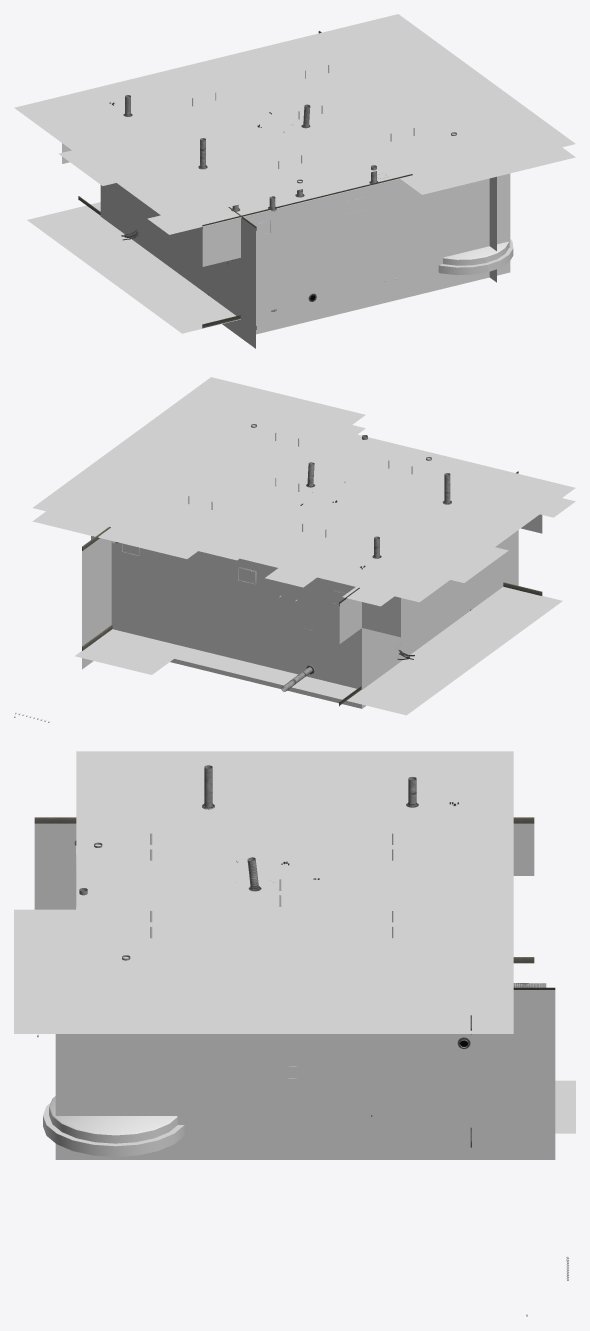
Rendered from BreakerRoom.fbx.
3 renders of one model, top to bottom at view 1: azimuth 30°, elevation 25°; view 2: azimuth 150°, elevation 25°; view 3: azimuth 270°, elevation 25°, orthographic. The views are drawn at different scales.
Parts seen in each view (by area): view 1: SM_MERGED_SM_WallB_3M52.001, SM_MERGED_SM_Wall_3m23.001, SM_MERGED_SM_WallB_3M10.001, SM_MERGED_SM_Wall_3m27.001, SM_MERGED_SM_WallB_3M32.001, SM_BreakerRoomStage_34.001, SM_MERGED_SM_Wall_3m21.001, SM_MERGED_SM_Pipes_Puzzle_V2_Double170_14.001; view 2: SM_MERGED_SM_WallB_3M52.001, SM_MERGED_SM_MERGED_SM_Wall_3m33.001, SM_MERGED_SM_WallB_3M10.001, SM_MERGED_SM_Wall_3m27.001, SM_MERGED_SM_WallB_3M32.001, SM_MERGED_SM_Wall_3m21.001; view 3: SM_MERGED_SM_WallB_3M52.001, SM_MERGED_SM_Wall_3m21.001, SM_MERGED_SM_WallB_3M32.001, SM_BreakerRoomStage_34.001, SM_MERGED_SM_Wall_3m27.001, SM_MERGED_ServerRoomSet_A_LOD0_23.001, SM_MERGED_SM_WallB_3M10.001.
Boxes of the visible parts, x1,y1,x2,y2 form: SM_MERGED_SM_WallB_3M52.001: (14,14,575,221); SM_MERGED_SM_Wall_3m23.001: (202,173,510,334); SM_MERGED_SM_WallB_3M10.001: (27,202,240,333); SM_MERGED_SM_Wall_3m27.001: (100,183,255,348); SM_MERGED_SM_WallB_3M32.001: (59,147,575,234); SM_BreakerRoomStage_34.001: (438,239,513,275); SM_MERGED_SM_Wall_3m21.001: (489,176,496,282); SM_MERGED_SM_Pipes_Puzzle_V2_Double170_14.001: (198,138,304,311); SM_MERGED_SM_WallB_3M52.001: (33,377,575,602); SM_MERGED_SM_MERGED_SM_Wall_3m33.001: (91,536,400,708); SM_MERGED_SM_WallB_3M10.001: (75,587,562,715); SM_MERGED_SM_Wall_3m27.001: (339,473,518,708); SM_MERGED_SM_WallB_3M32.001: (32,425,575,606); SM_MERGED_SM_Wall_3m21.001: (82,538,111,669); SM_MERGED_SM_WallB_3M52.001: (14,751,513,1015); SM_MERGED_SM_Wall_3m21.001: (55,990,555,1159); SM_MERGED_SM_WallB_3M32.001: (14,1015,513,1033); SM_BreakerRoomStage_34.001: (43,1096,184,1156); SM_MERGED_SM_Wall_3m27.001: (34,823,534,909); SM_MERGED_ServerRoomSet_A_LOD0_23.001: (303,1050,365,1133); SM_MERGED_SM_WallB_3M10.001: (555,1080,575,1133).
Size of what is drawn, in the model's own units: 1551 by 881 by 1350.
